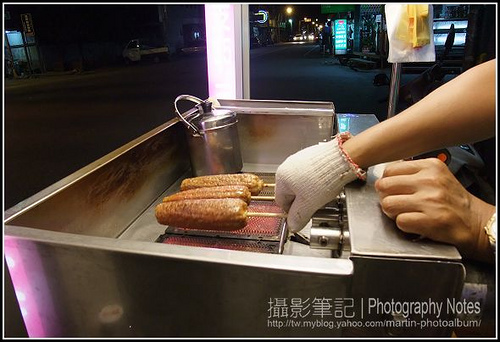corn: (152, 196, 250, 235), (179, 172, 263, 192)
